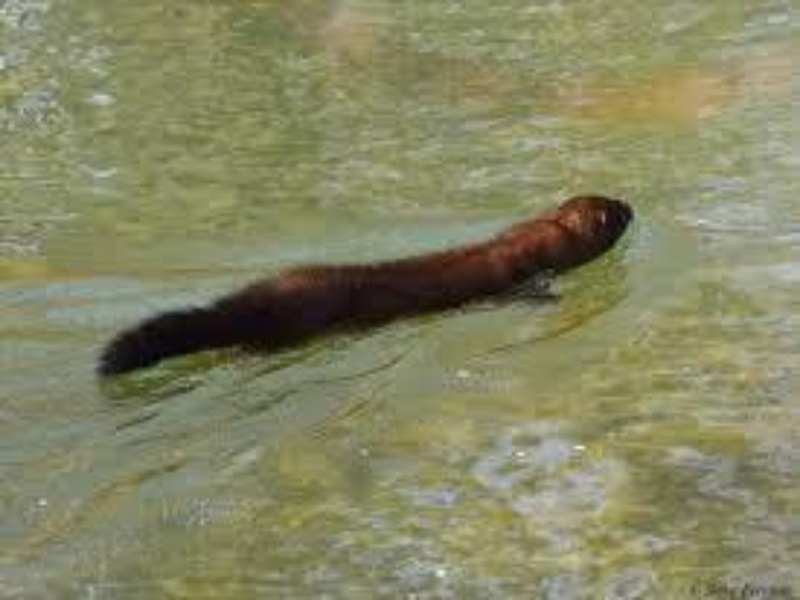minkish: (95, 193, 636, 382)
